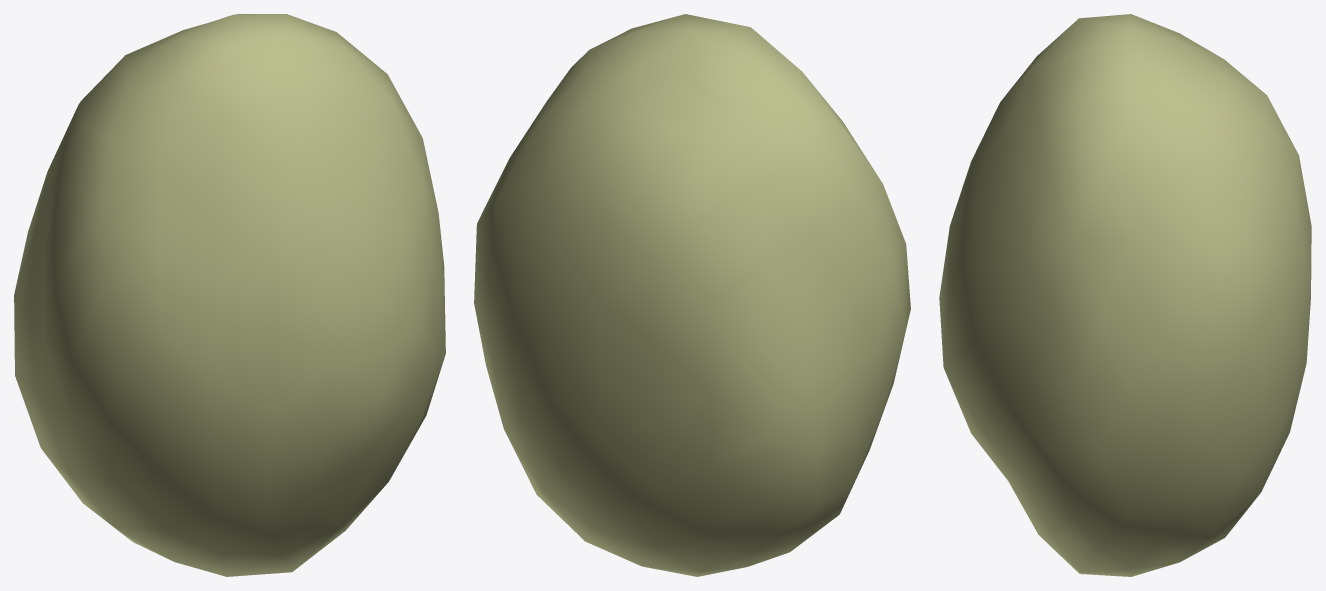
The model's file is NPR_07_3011__MOD__VegetationElements__Grasses__Reeds__Var-01__.glb.
3 views of the same model, side by side, from view 1: azimuth 30°, elevation 25°; view 2: azimuth 150°, elevation 25°; view 3: azimuth 270°, elevation 25° (orthographic). The views are drawn at different scales.
Parts seen in each view (by area): view 1: NPR_07_3011__MOD__VegetationElements__Grasses__Reeds__Var-01; view 2: NPR_07_3011__MOD__VegetationElements__Grasses__Reeds__Var-01; view 3: NPR_07_3011__MOD__VegetationElements__Grasses__Reeds__Var-01.
Part boxes in pixels (left/top/right/bottom): NPR_07_3011__MOD__VegetationElements__Grasses__Reeds__Var-01: left=14, top=14, right=445, bottom=576; NPR_07_3011__MOD__VegetationElements__Grasses__Reeds__Var-01: left=474, top=14, right=910, bottom=576; NPR_07_3011__MOD__VegetationElements__Grasses__Reeds__Var-01: left=939, top=14, right=1311, bottom=576.
Bounding box in the file's own units: 0.5929 × 0.8108 × 0.5162.
